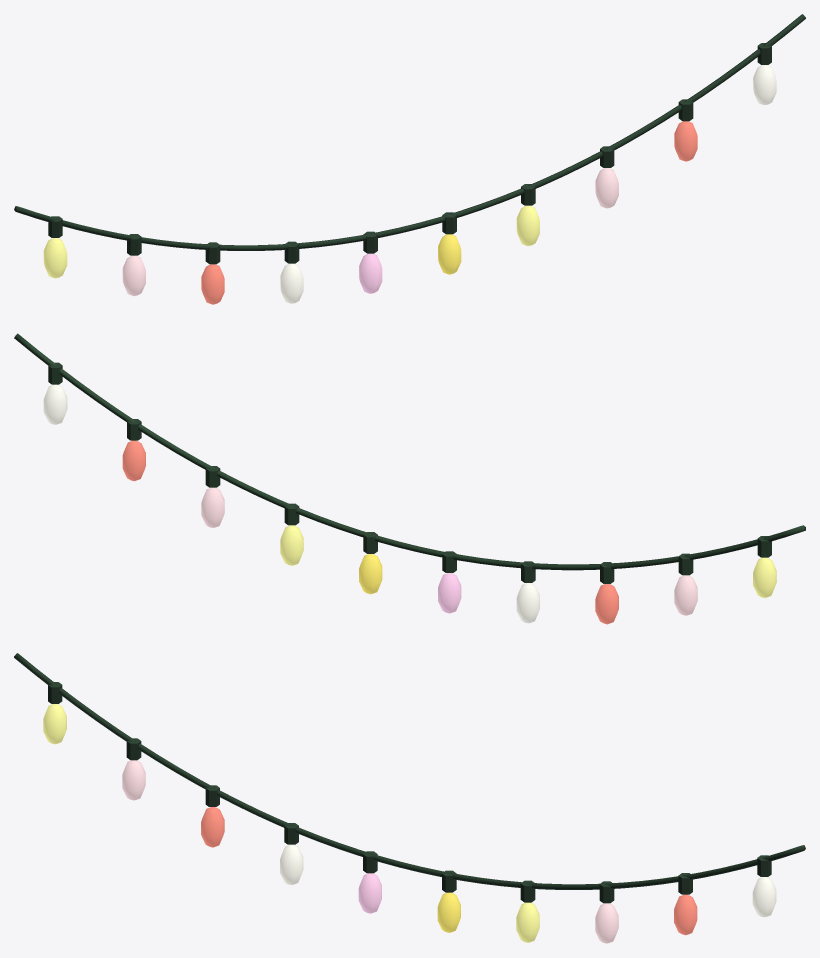
The model's file is string_lights.glb.
3 renders of one model, top to bottom at view 1: azimuth 30°, elevation 25°; view 2: azimuth 150°, elevation 25°; view 3: azimuth 330°, elevation 25°, orthographic.
Parts seen in each view (by area): view 1: Bulbs, Wire, Sockets; view 2: Bulbs, Wire, Sockets; view 3: Bulbs, Wire, Sockets.
Boxes of the visible parts, x1,y1,x2,y2 form: Bulbs: (43, 65, 776, 304); Wire: (14, 14, 805, 250); Sockets: (48, 43, 771, 264); Bulbs: (43, 384, 776, 624); Wire: (14, 333, 805, 570); Sockets: (48, 362, 771, 583); Bulbs: (43, 704, 776, 943); Wire: (14, 653, 805, 889); Sockets: (48, 682, 771, 903).
Bounding box in the file's own units: 2.01 × 0.423 × 0.0533.
2 materials, 2 textured.
